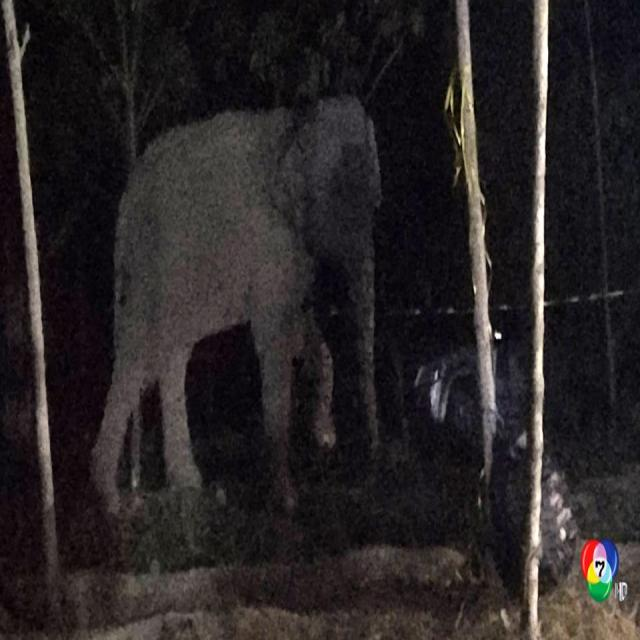Elephant: (83, 66, 406, 557)
